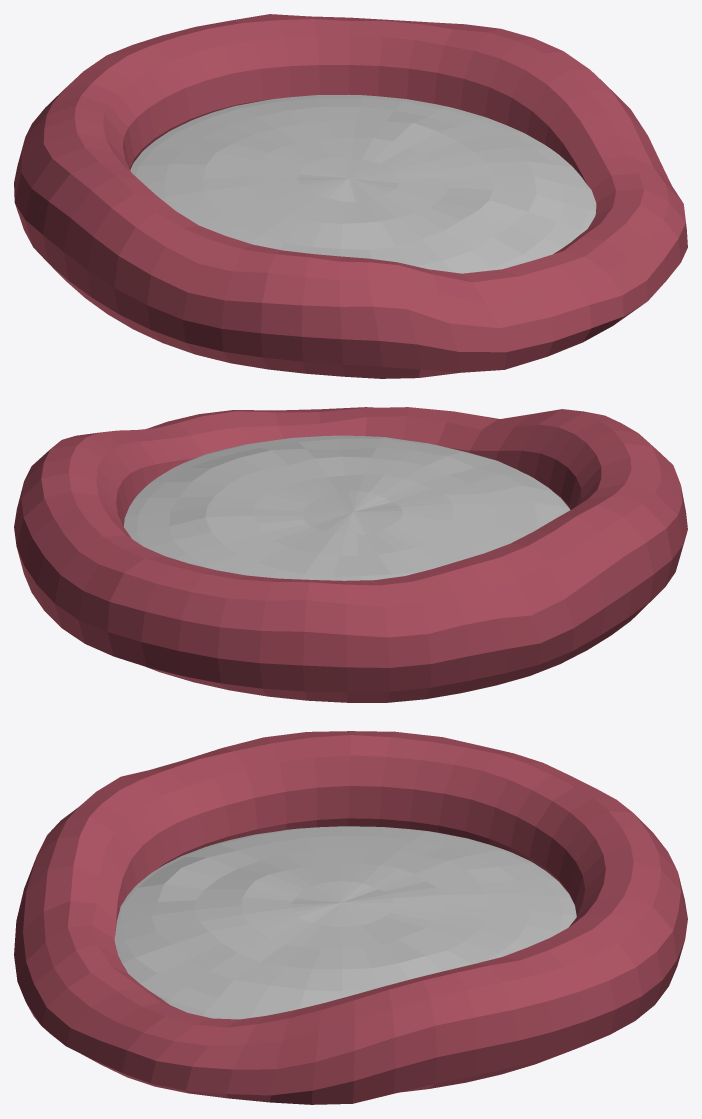
The model's file is cuccia.glb.
3 views of the same model, one above another, from view 1: azimuth 30°, elevation 25°; view 2: azimuth 150°, elevation 25°; view 3: azimuth 270°, elevation 25° (orthographic).
Parts seen in each view (by area): view 1: Torus; view 2: Torus; view 3: Torus.
Part boxes in pixels (left/top/right/bottom): Torus: left=14, top=14, right=687, bottom=378; Torus: left=14, top=407, right=687, bottom=702; Torus: left=14, top=731, right=687, bottom=1104.
Bounding box in the file's own units: 9.08 × 1.95 × 9.11.
